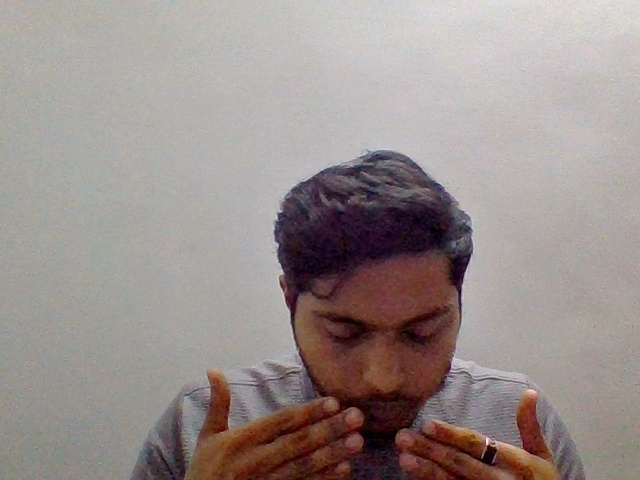Thanks: (174, 363, 570, 480)
